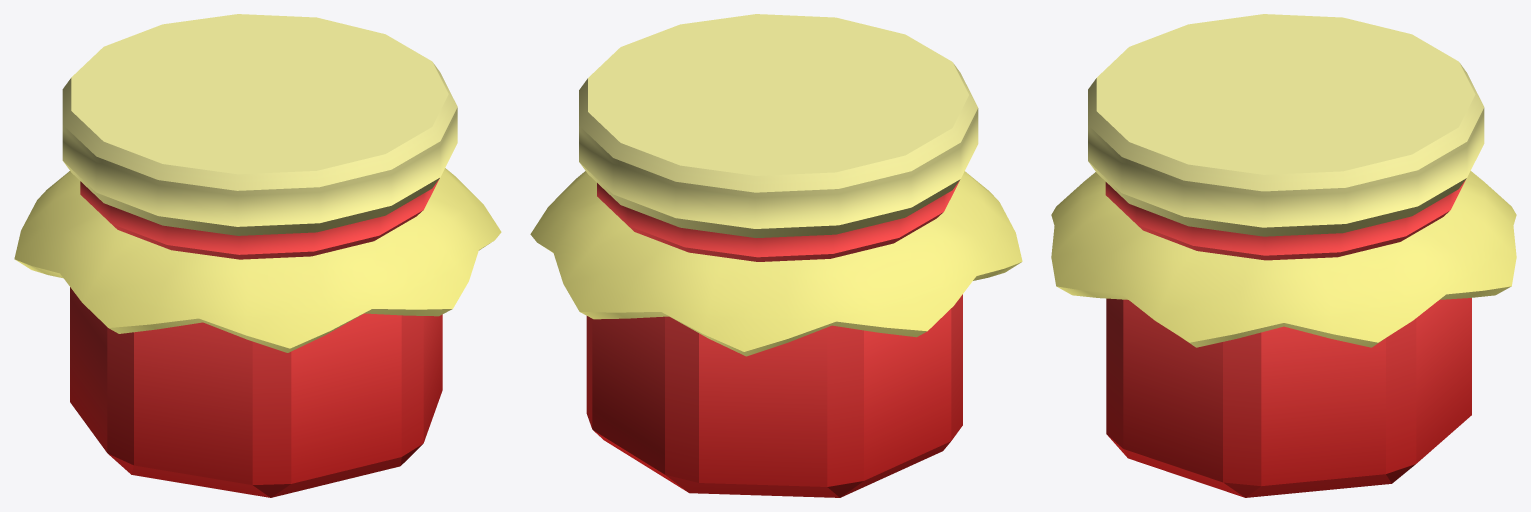
Rendered from jam_red.fbx.
The picture shows the model from 3 angles, left to right: view 1: azimuth 30°, elevation 25°; view 2: azimuth 150°, elevation 25°; view 3: azimuth 270°, elevation 25°; orthographic projection.
Visible parts, largest first — view 1: jam_red; view 2: jam_red; view 3: jam_red.
Part boxes in pixels (x1,y1,x2,y2): jam_red: [14, 14, 501, 497]; jam_red: [530, 14, 1022, 497]; jam_red: [1051, 14, 1516, 497].
Bounding box in the file's own units: 65.2 × 51.35 × 65.2.
